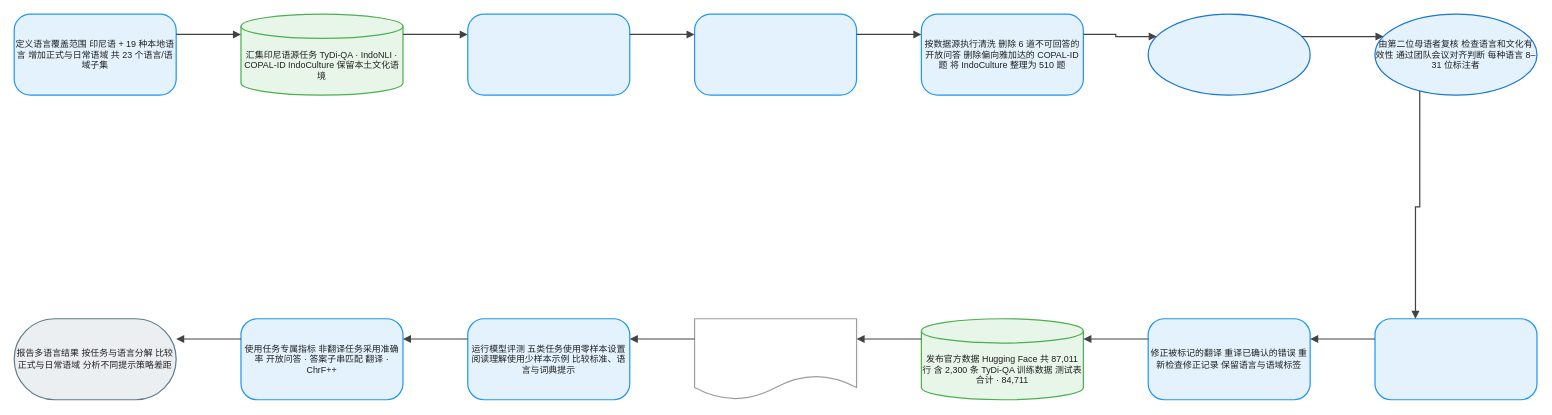
This 1552x415 diagram has some shape labels left out. The shapes that lost their labels are listed below. From the top down, each one's box as (x1, y1, x2, y2) in pixels, then its label:
(467, 13, 630, 95): 改造 TyDi-QA 阅读理解保留文章 开放问答移除文章 各子集保留测试集及 100 条训练题
(694, 13, 857, 95): 形成另外四类任务 NLI 来自专家编写的 IndoNLI 测试集 翻译取自 IndoNLI 前提句 因果推理与文化问答采用多选题
(1147, 13, 1310, 95): 由母语者翻译 每种语言使用专业译者 按任务要求连接本地语言与印尼语 采用统一任务指南
(694, 318, 857, 400): 构造六类任务输入 分类与多项选择 抽取式及开放式生成 本地语言到印尼语翻译
(1374, 318, 1537, 400): 运行翻译自动检查 标记异常文本长度 标记数字不一致 将可疑项送回修正
